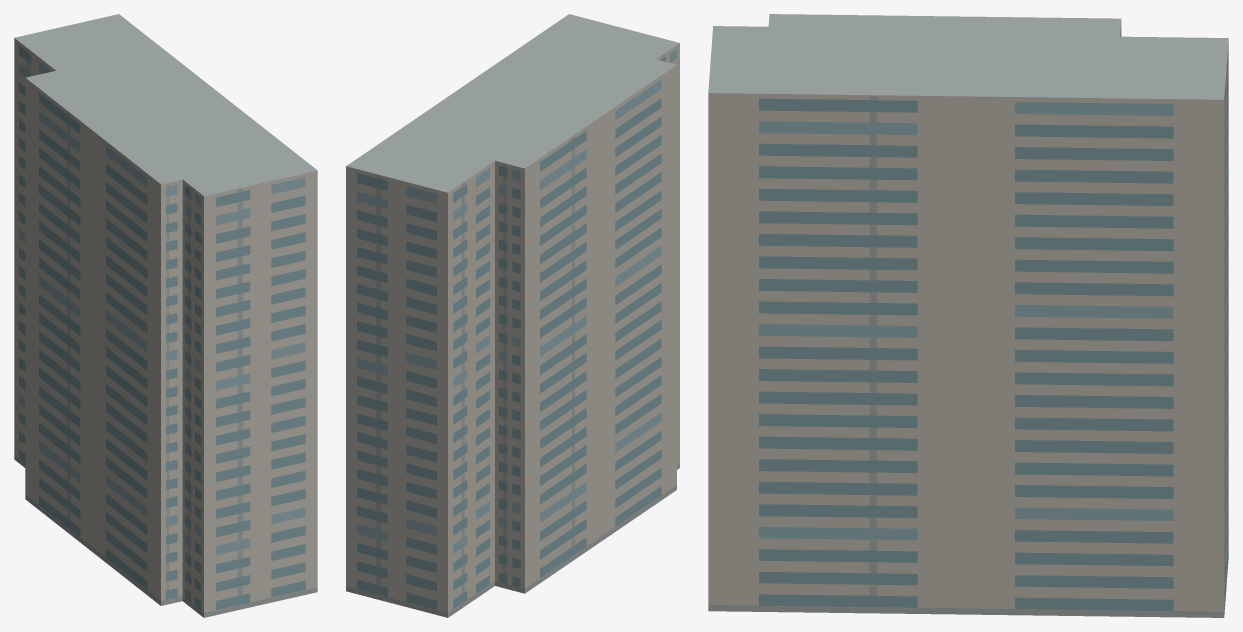
The model's file is residential-5133ebb1-2b03-4c5d-a05d-49750572a916.glb.
The picture shows the model from 3 angles, left to right: view 1: azimuth 30°, elevation 25°; view 2: azimuth 150°, elevation 25°; view 3: azimuth 270°, elevation 25°; orthographic projection. The views are drawn at different scales.
Parts seen in each view (by area): view 1: residential-5133ebb1-2b03-4c5d-a05d-49750572a916.tmp; view 2: residential-5133ebb1-2b03-4c5d-a05d-49750572a916.tmp; view 3: residential-5133ebb1-2b03-4c5d-a05d-49750572a916.tmp.
Part boxes in pixels (<box>): residential-5133ebb1-2b03-4c5d-a05d-49750572a916.tmp: <box>14,14,317,617</box>; residential-5133ebb1-2b03-4c5d-a05d-49750572a916.tmp: <box>346,14,679,617</box>; residential-5133ebb1-2b03-4c5d-a05d-49750572a916.tmp: <box>708,14,1228,617</box>.
Bounding box in the file's own units: 33.38 × 94 × 85.57.
